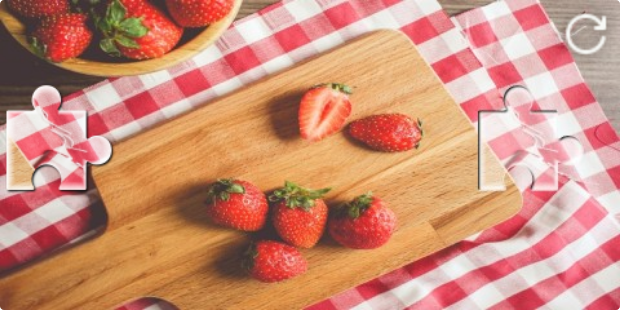target: (478, 86, 585, 191)
